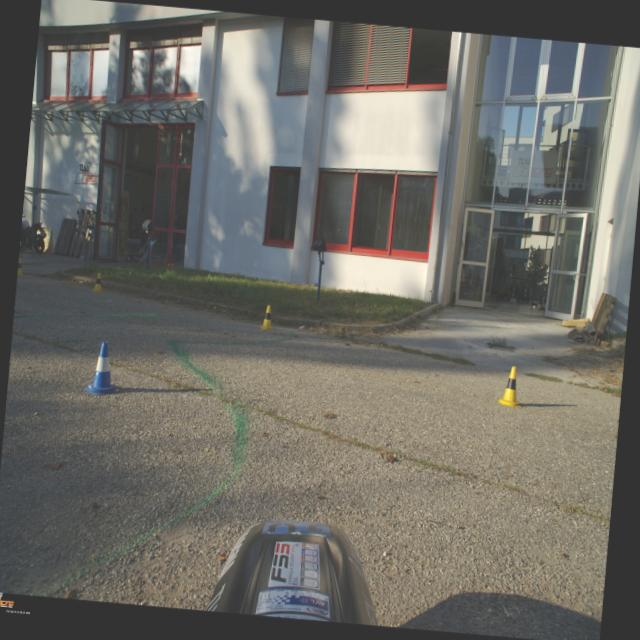blue_cone: (82, 339, 122, 396)
yellow_cone: (496, 364, 524, 408), (259, 304, 275, 330), (92, 272, 104, 293), (17, 257, 25, 275)
